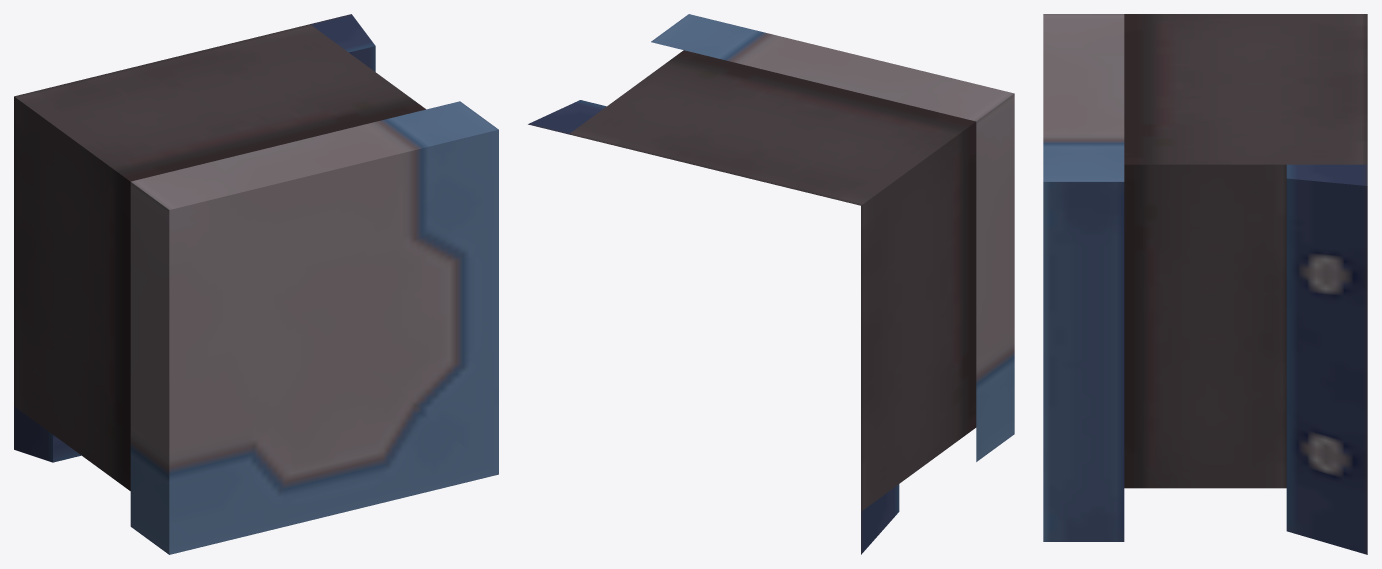
Rendered from countertop_1unit_corner_01.glb.
3 views of the same model, side by side, from view 1: azimuth 30°, elevation 25°; view 2: azimuth 150°, elevation 25°; view 3: azimuth 270°, elevation 25° (orthographic). The views are drawn at different scales.
Visible parts, largest first — view 1: knights.countertop_1unit_corner_01-Mesh[0]; view 2: knights.countertop_1unit_corner_01-Mesh[0]; view 3: knights.countertop_1unit_corner_01-Mesh[0].
Part boxes in pixels (<box>): knights.countertop_1unit_corner_01-Mesh[0]: <box>14,14,498,554</box>; knights.countertop_1unit_corner_01-Mesh[0]: <box>528,14,1014,554</box>; knights.countertop_1unit_corner_01-Mesh[0]: <box>1043,14,1367,554</box>.
Bounding box in the file's own units: 1 × 1 × 0.8.
Materials: 1 (1 with a texture image).
